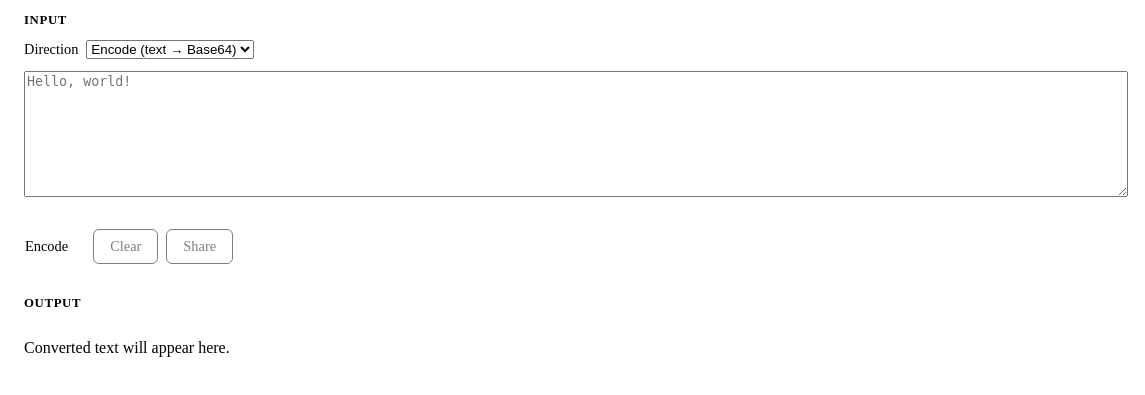
Base64CodecTool › decodes user input when direction is decode
This screenshot has width=1145, height=395.
Step 1. Select "Decode (Base64 → text)" in the dropdown labelled "Direction" → (170, 50), box [86, 40, 254, 59]
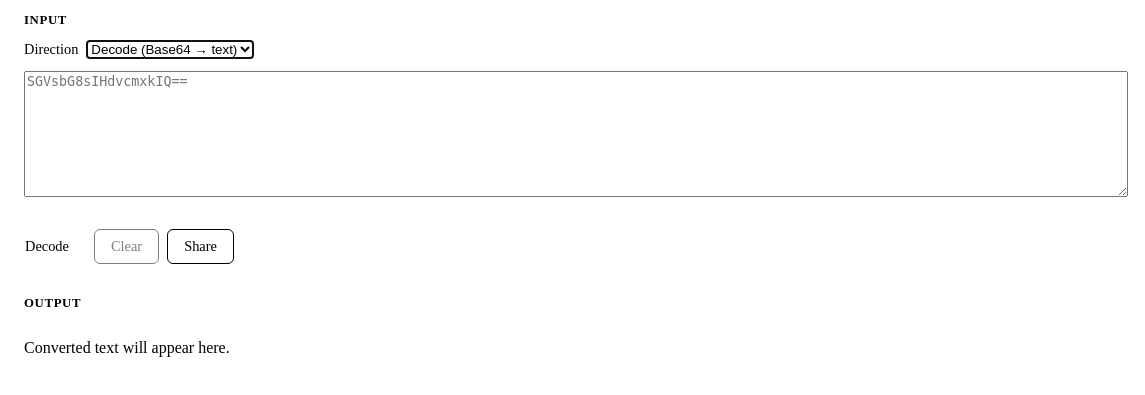
Step 2. Type "SGVsbG8=" into the text box named "Base64 input" → (576, 134), box [24, 71, 1128, 197]
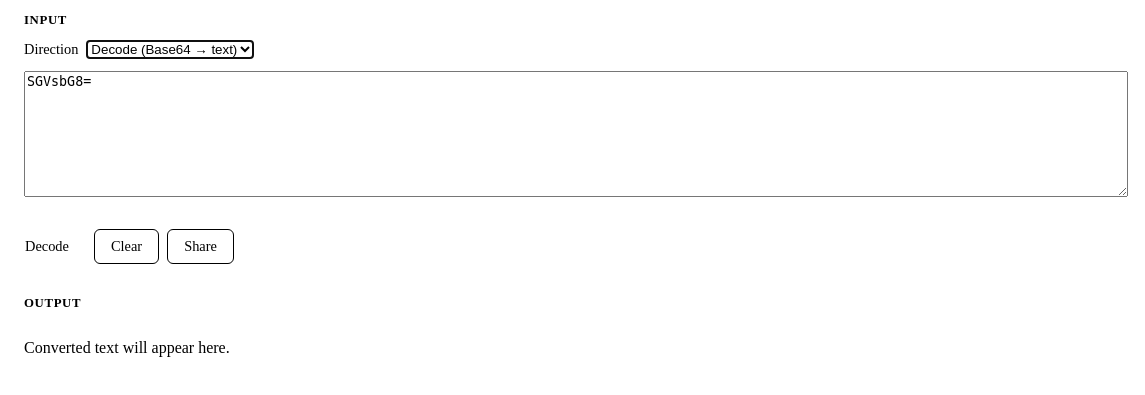
Step 3. Click the button "Decode" → (47, 246), box [8, 229, 86, 264]
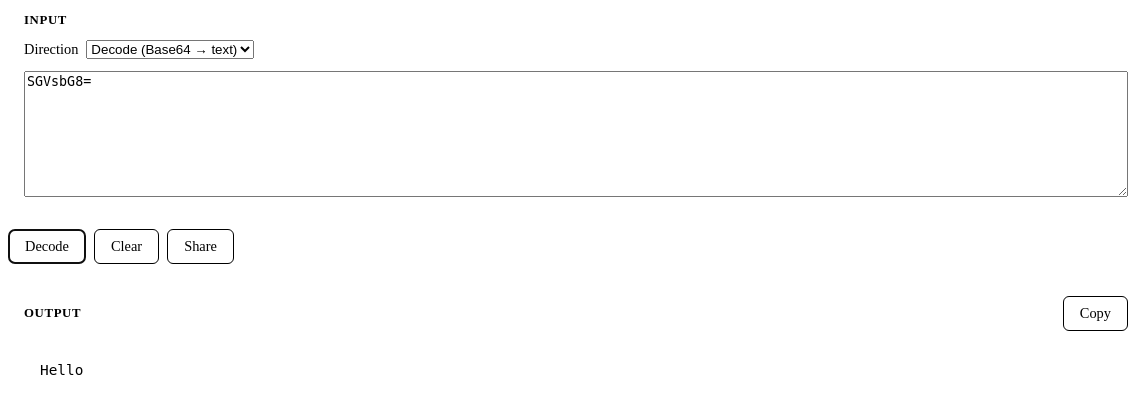
Now the text with test id "base64-output" reads "Hello", box [40, 362, 83, 378]
